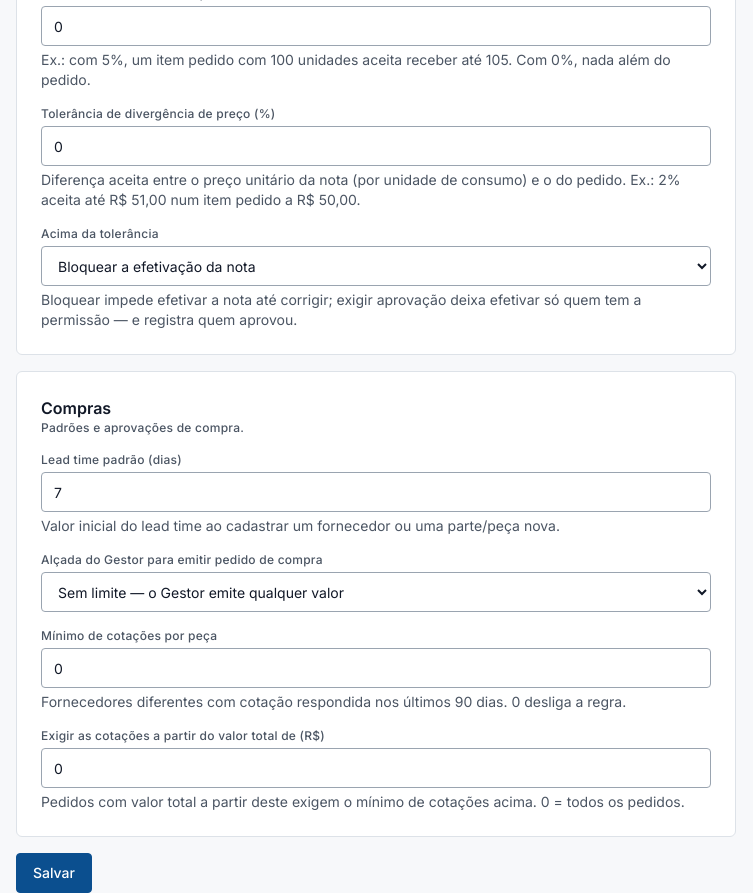
Scenario: ParametrosNegocio › o campo de limite so aparece ao escolher limitar a alcada
(page scrolled)
Expected: the field labelled "Valor máximo que o Gestor emite" is not shown
Select "Limitar ao valor abaixo — acima dele, só o Administrador" in the dropdown labelled "Alçada do Gestor para emitir pedido de compra": (376, 592) x1=41 y1=572 x2=711 y2=612
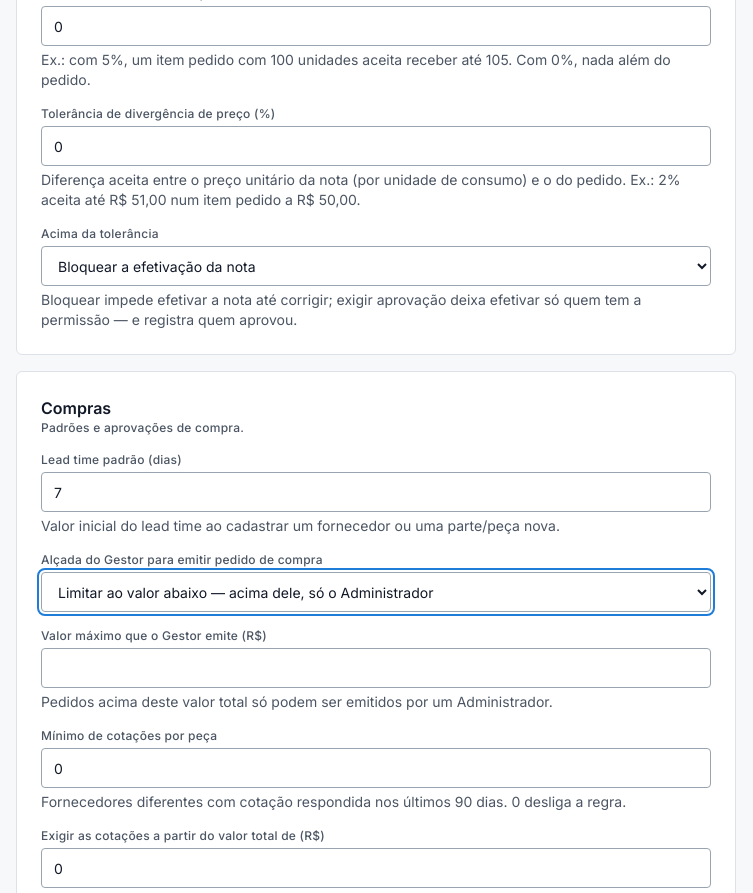
Expected: the number field labelled "Valor máximo que o Gestor emite (R$)" is shown, x1=41 y1=648 x2=711 y2=688
